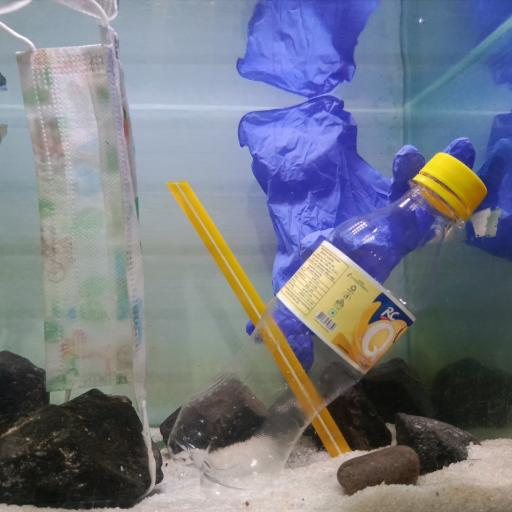bottle_cap: (422, 151, 488, 215)
glove: (236, 96, 478, 372)
mask: (0, 0, 152, 438)
plastic_bottle: (174, 150, 486, 502)
plastic_straw: (168, 180, 351, 459)
